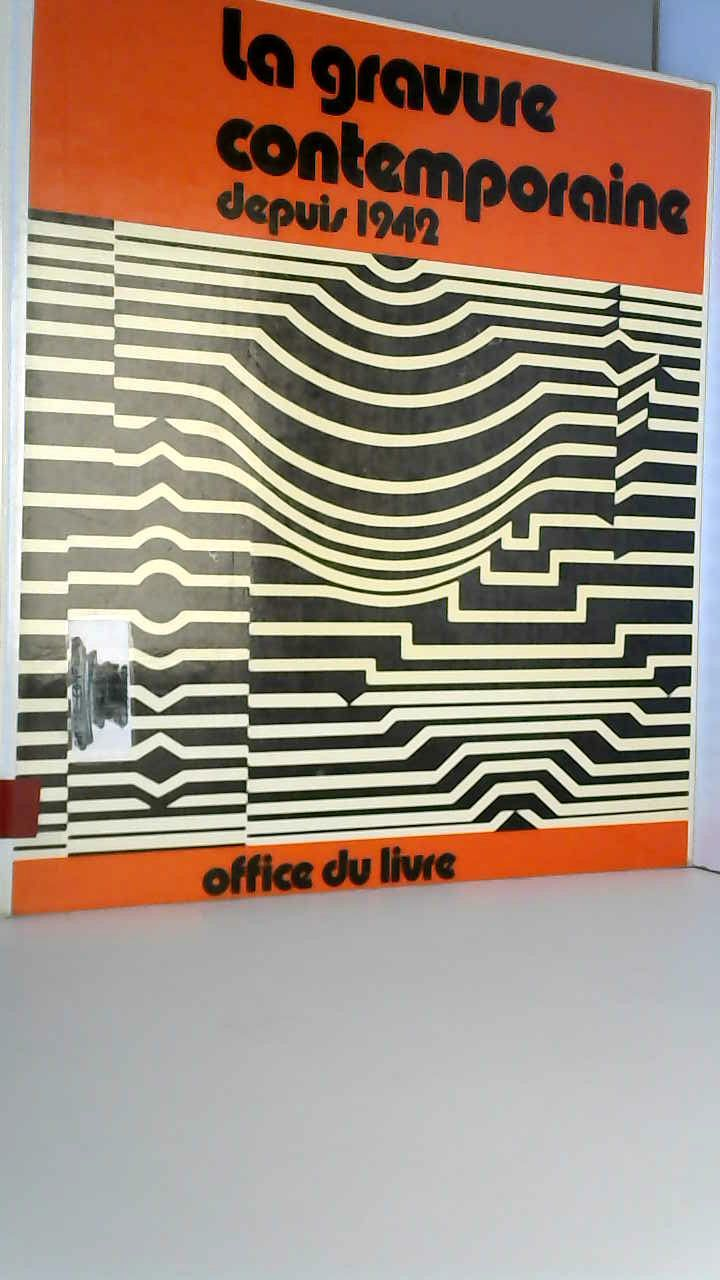book: (0, 0, 720, 939)
